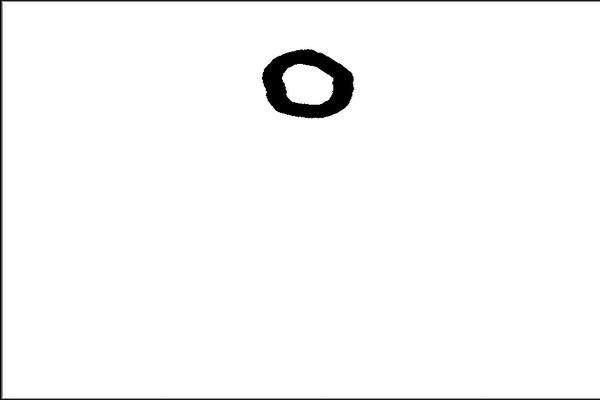O: (252, 39, 375, 129)
